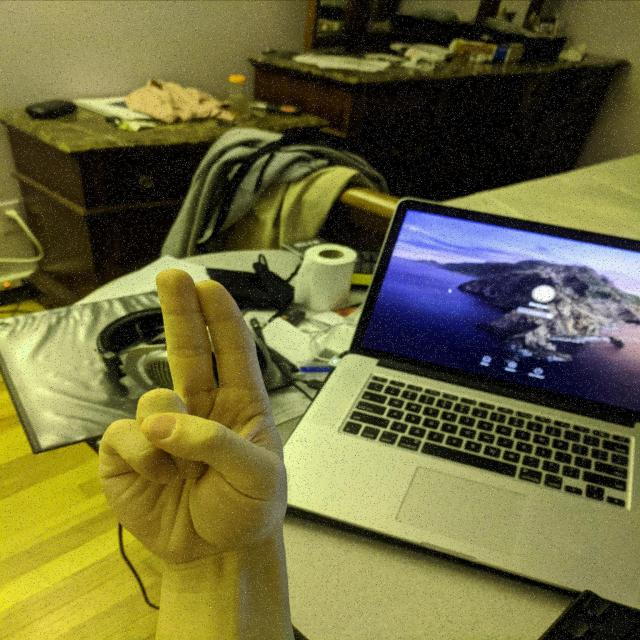U: (88, 263, 299, 569)
